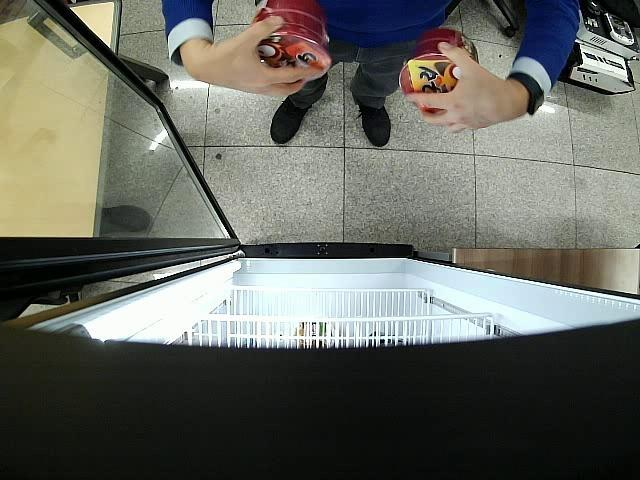05_nuguri_L: (399, 28, 478, 112), (251, 0, 331, 80)
